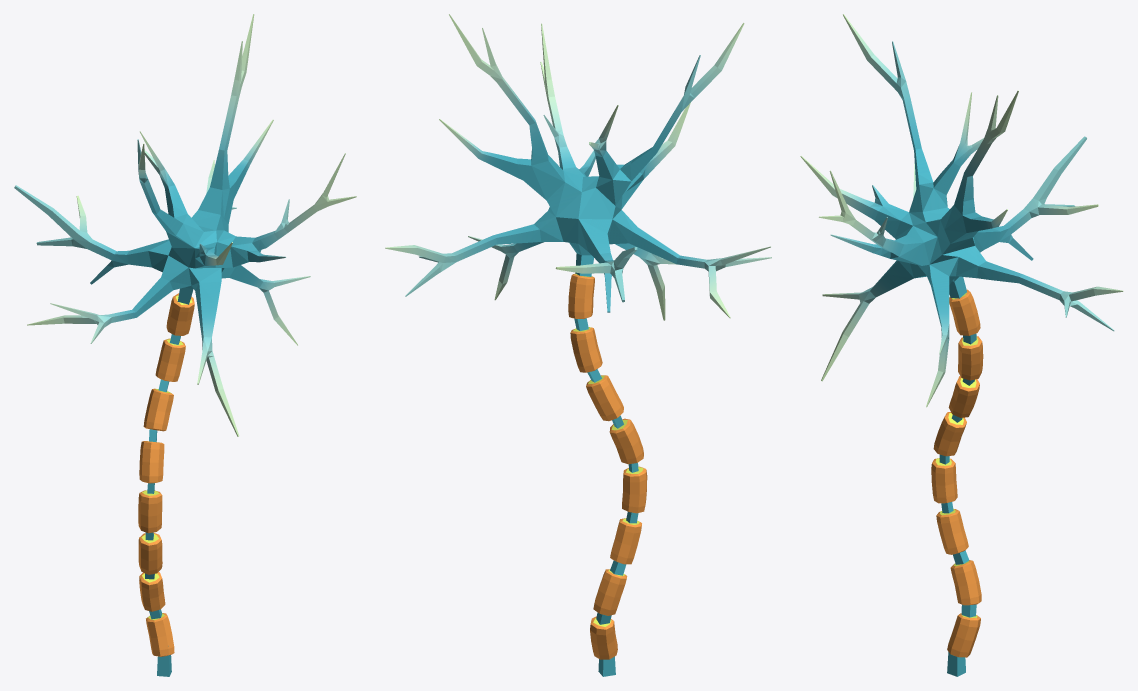
Rendered from NeuronTree.fbx.
3 renders of one model, left to right at view 1: azimuth 30°, elevation 25°; view 2: azimuth 150°, elevation 25°; view 3: azimuth 270°, elevation 25°, orthographic. The views are drawn at different scales.
Parts seen in each view (by area): view 1: Vert.001, Cube.001; view 2: Vert.001, Cube.001; view 3: Vert.001, Cube.001.
Boxes of the visible parts, <box> form: Vert.001: <box>14,14,356,676</box>; Cube.001: <box>138,293,194,656</box>; Vert.001: <box>385,14,771,676</box>; Cube.001: <box>568,273,647,659</box>; Vert.001: <box>800,14,1123,676</box>; Cube.001: <box>931,289,983,657</box>.
Bounding box in the file's own units: 497 × 1064 × 484.
